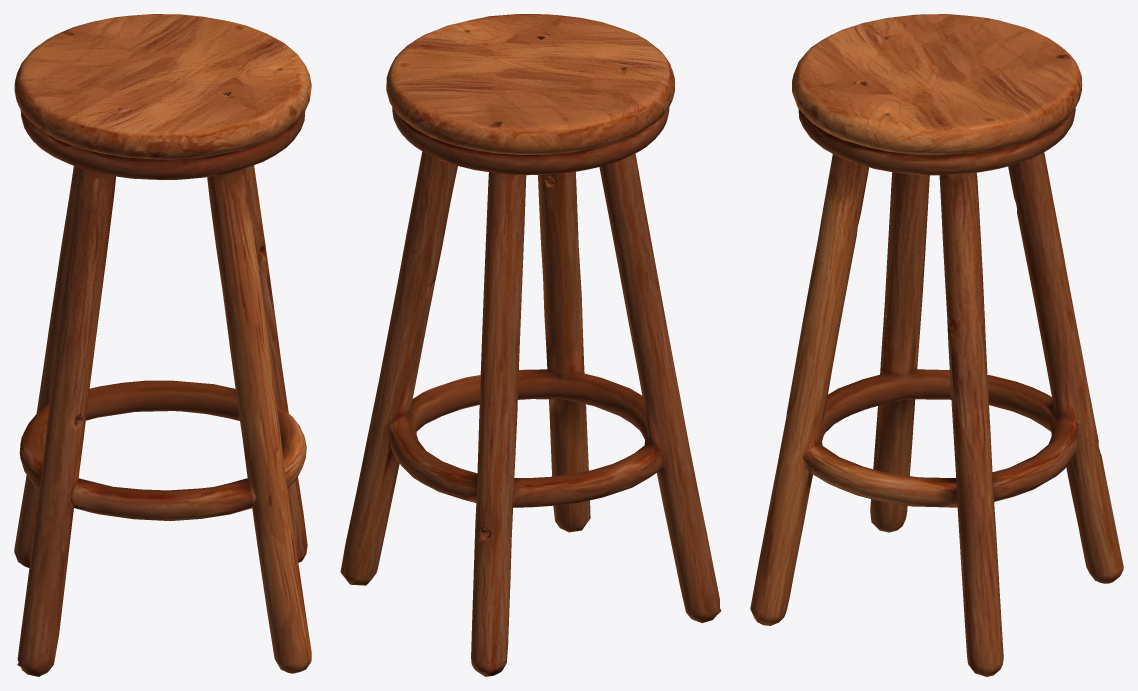
The model's file is barhocker.glb.
The picture shows the model from 3 angles, left to right: view 1: azimuth 30°, elevation 25°; view 2: azimuth 150°, elevation 25°; view 3: azimuth 270°, elevation 25°; orthographic projection. The views are drawn at different scales.
Parts seen in each view (by area): view 1: tripo_node_a400daa6-d15b-4b5a-9f13-1fd4619d8280; view 2: tripo_node_a400daa6-d15b-4b5a-9f13-1fd4619d8280; view 3: tripo_node_a400daa6-d15b-4b5a-9f13-1fd4619d8280.
Part boxes in pixels (x1=…): tripo_node_a400daa6-d15b-4b5a-9f13-1fd4619d8280: x1=14, y1=14, x2=311, y2=676; tripo_node_a400daa6-d15b-4b5a-9f13-1fd4619d8280: x1=340, y1=14, x2=721, y2=676; tripo_node_a400daa6-d15b-4b5a-9f13-1fd4619d8280: x1=750, y1=14, x2=1123, y2=676.
Size of the model in its own units: 0.6308 by 0.9788 by 0.6226.
Materials: 1 (1 with a texture image).
